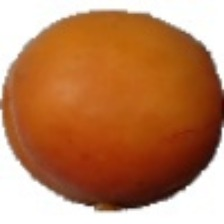apricot: (25, 8, 189, 199)
